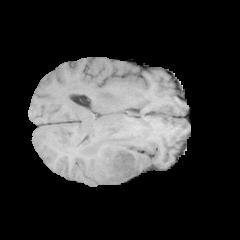glioma: (73, 130, 146, 184)
